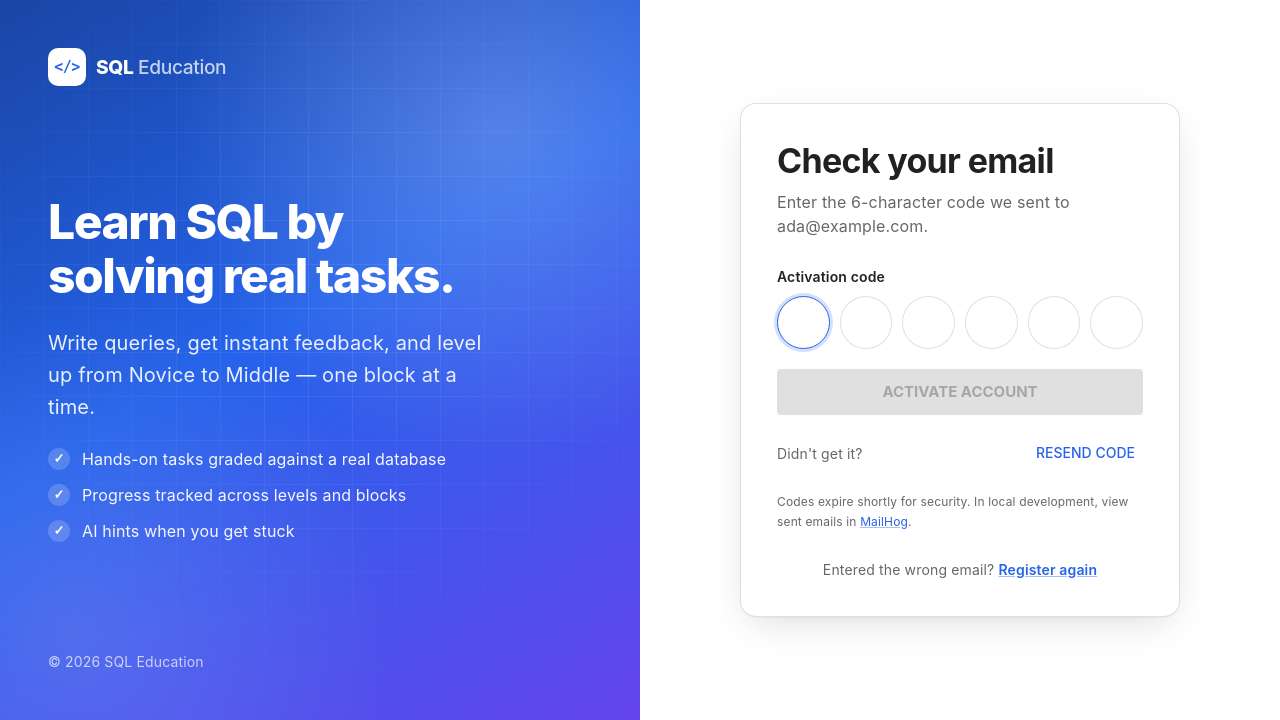
Test: ActivatePage › resend starts a 60s cooldown that disables the button and counts down
The width and height of the screenshot is (1280, 720).
What coordinates should you click on to do the following:
click the button "Resend code"
I would click on:
 (1086, 454)
Its box is x1=1028 y1=435 x2=1143 y2=472.
Wait 3000 ms
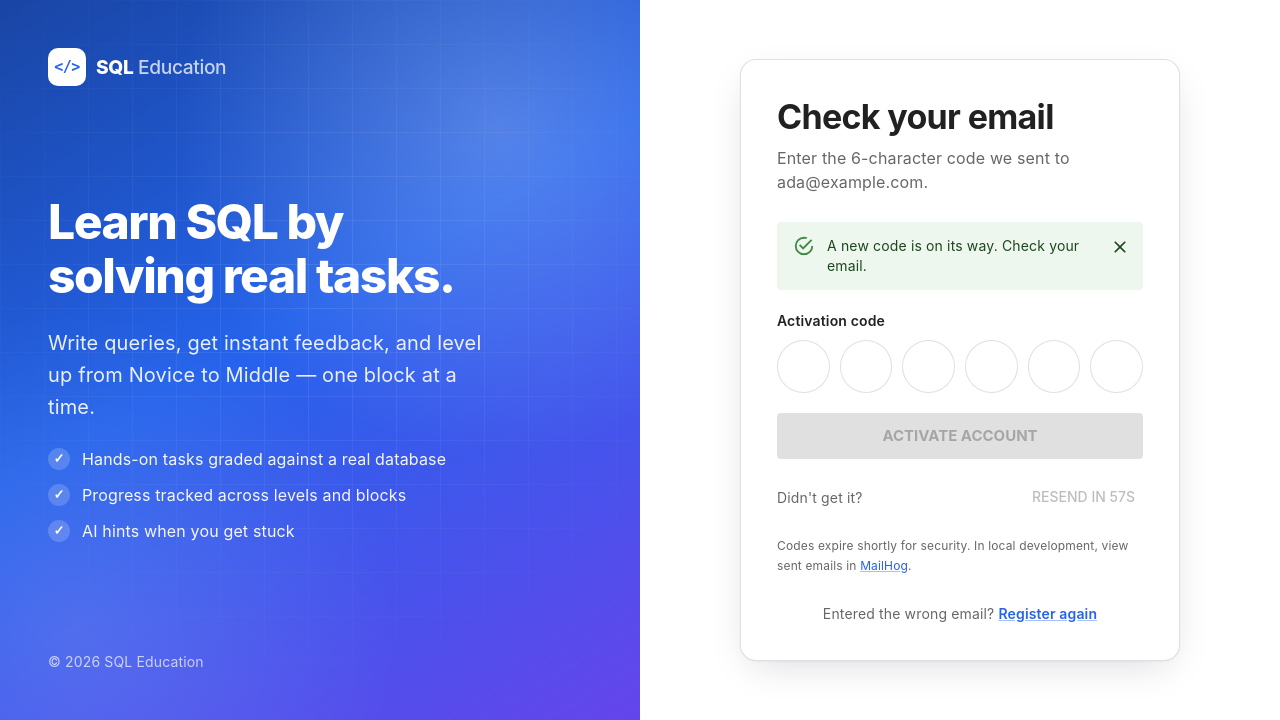
Expected: the button named "resend in 60s" is disabled, x1=1024 y1=479 x2=1143 y2=516
Expected: the button "Resend in 57s" is disabled, x1=1024 y1=479 x2=1143 y2=516
